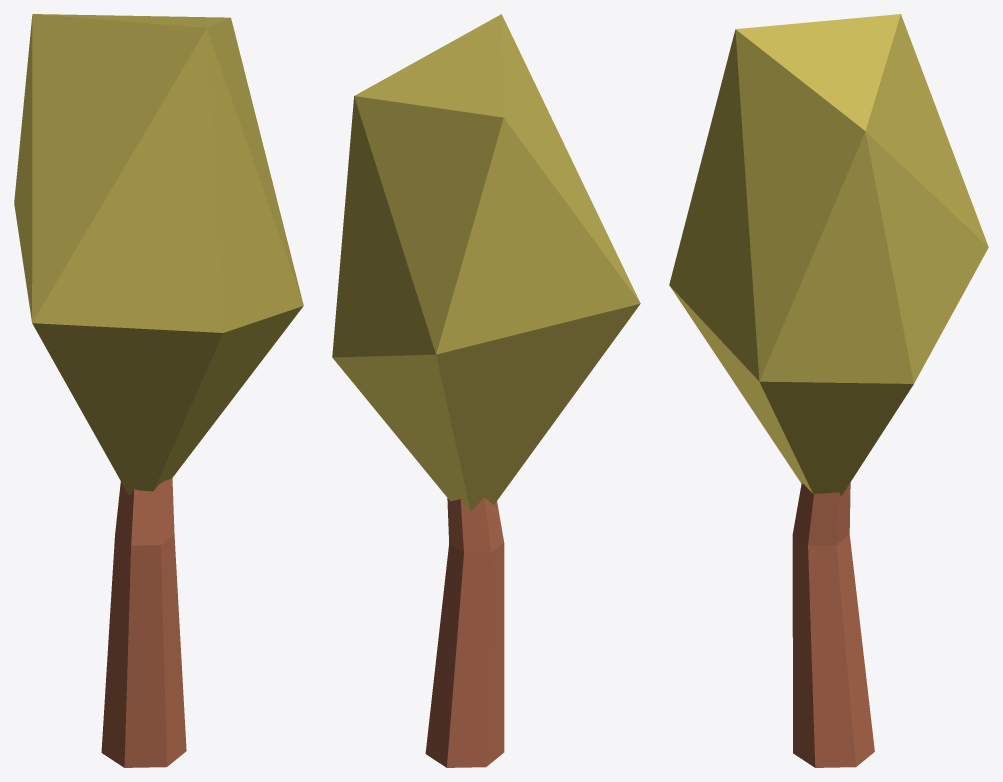
Rendered from Tree_08_autumn_vc.fbx.
The picture shows the model from 3 angles, left to right: view 1: azimuth 30°, elevation 25°; view 2: azimuth 150°, elevation 25°; view 3: azimuth 270°, elevation 25°; orthographic projection. The views are drawn at different scales.
Visible parts, largest first — view 1: Tree_08_autumn_vc; view 2: Tree_08_autumn_vc; view 3: Tree_08_autumn_vc.
Boxes of the visible parts, x1,y1,x2,y2 form: Tree_08_autumn_vc: (14,14,303,767); Tree_08_autumn_vc: (332,14,640,767); Tree_08_autumn_vc: (669,14,988,767).
Bounding box in the file's own units: 93.3 × 249 × 98.84.
